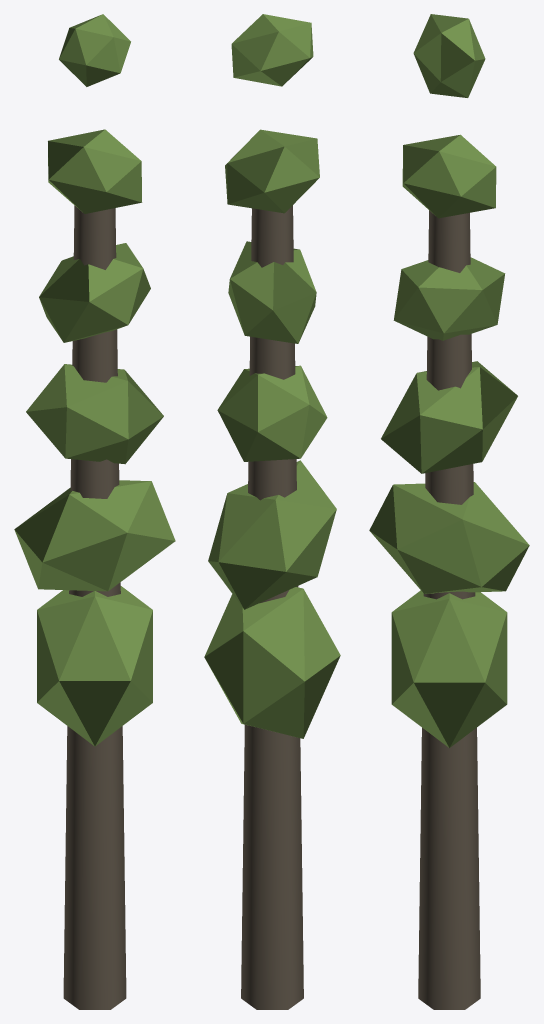
The model's file is tree_poplar_2.glb.
3 views of the same model, side by side, from view 1: azimuth 90°, elevation 25°; view 2: azimuth 150°, elevation 25°; view 3: azimuth 270°, elevation 25° (orthographic).
Parts seen in each view (by area): view 1: tree_poplar_2; view 2: tree_poplar_2; view 3: tree_poplar_2.
Part boxes in pixels (<box>): tree_poplar_2: <box>14,14,175,1009</box>; tree_poplar_2: <box>204,14,340,1009</box>; tree_poplar_2: <box>369,14,529,1009</box>.
Bounding box in the file's own units: 0.7492 × 6.86 × 1.03.
